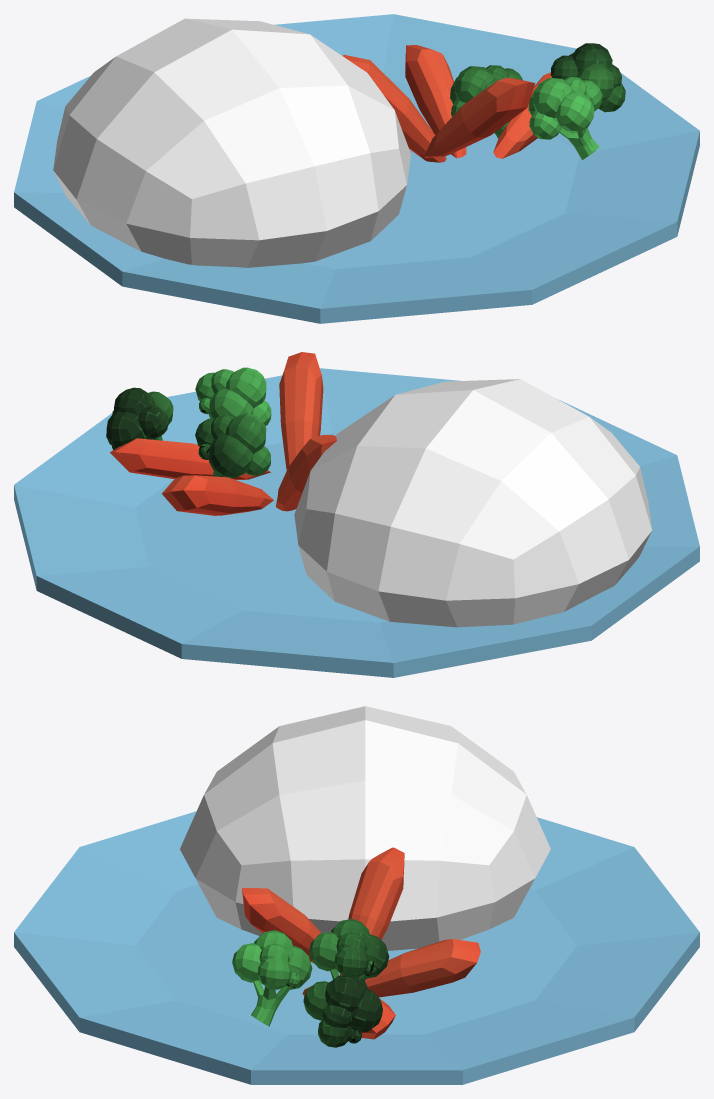
Rendered from riceveggie.glb.
The picture shows the model from 3 angles, top to bottom: view 1: azimuth 30°, elevation 25°; view 2: azimuth 150°, elevation 25°; view 3: azimuth 270°, elevation 25°; orthographic projection. The views are drawn at different scales.
Parts seen in each view (by area): view 1: Cylinder, rice, carotes; view 2: Cylinder, rice, carotes; view 3: Cylinder, rice, carotes.
Boxes of the visible parts, <box> form: Cylinder: <box>14,14,699,323</box>; rice: <box>53,18,410,267</box>; carotes: <box>343,43,625,162</box>; Cylinder: <box>14,368,699,677</box>; rice: <box>294,379,651,627</box>; carotes: <box>106,352,336,515</box>; Cylinder: <box>14,811,699,1084</box>; rice: <box>180,706,550,950</box>; carotes: <box>232,847,480,1047</box>.
Bounding box in the file's own units: 0.2566 × 0.0819 × 0.2698.
4 materials, 2 textured.
